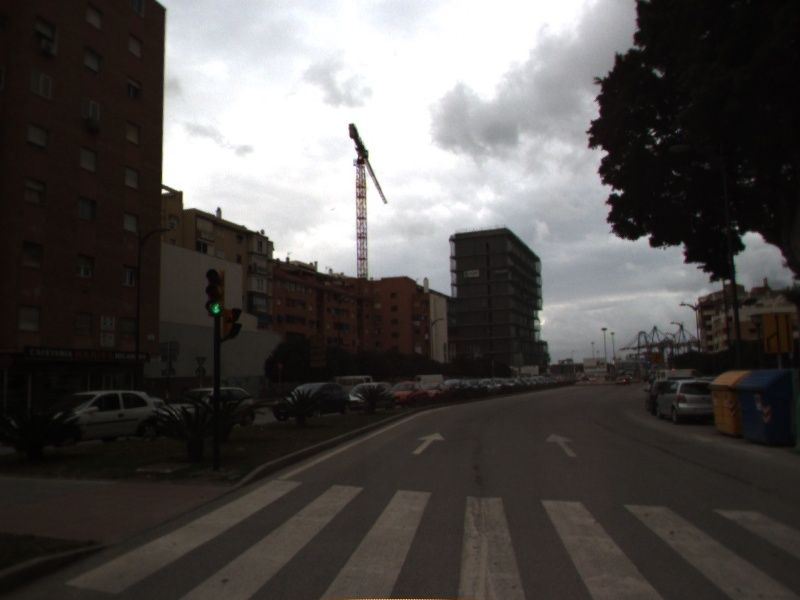STRAIGHT: (543, 432, 580, 459), (410, 430, 447, 456)
